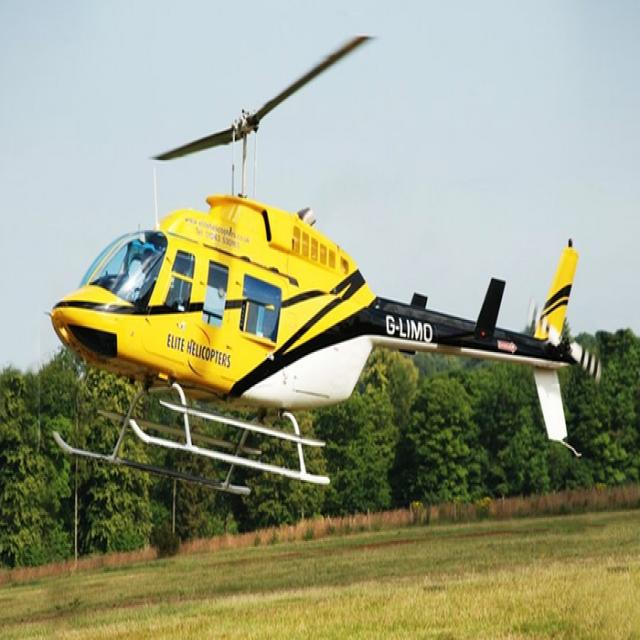helicopter: (31, 18, 607, 511)
